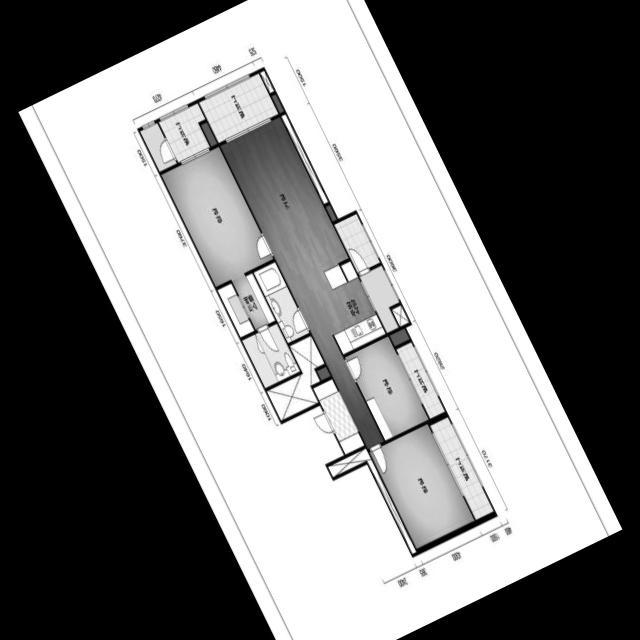background: (18, 0, 622, 640)
space_balconi: (429, 416, 493, 519), (198, 72, 278, 142), (396, 341, 444, 418), (158, 102, 209, 161), (334, 213, 379, 272)
space_bedroom: (161, 145, 273, 286), (368, 423, 474, 548), (344, 335, 428, 440)
space_dressroom: (231, 272, 275, 329), (217, 282, 254, 336)
space_front: (312, 378, 364, 453)
space_kitchen: (305, 260, 385, 353)
space_living_room: (220, 116, 383, 448)
space_other: (327, 447, 416, 553), (266, 334, 324, 420), (281, 113, 328, 203), (359, 264, 399, 332), (139, 121, 177, 171), (201, 121, 217, 146), (391, 304, 409, 326), (389, 327, 409, 345), (259, 69, 274, 92), (271, 92, 283, 112), (325, 204, 336, 220)
space_toilet: (253, 261, 309, 342), (241, 322, 300, 387)
